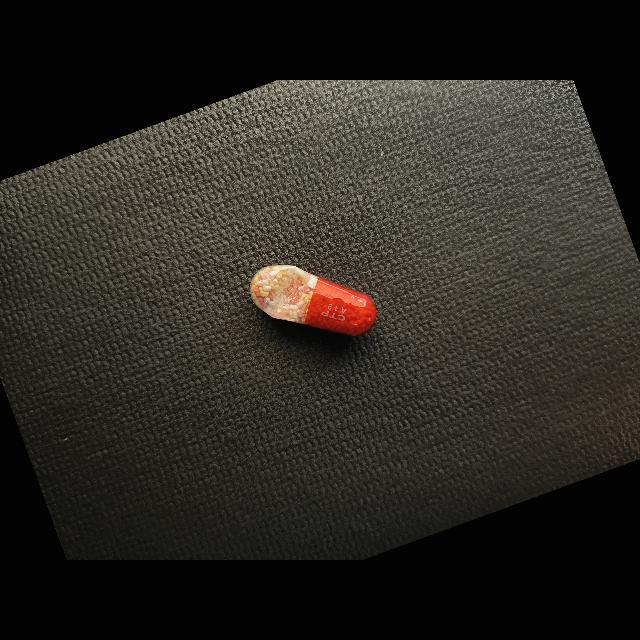Defective Capsule: (250, 265, 377, 336)
